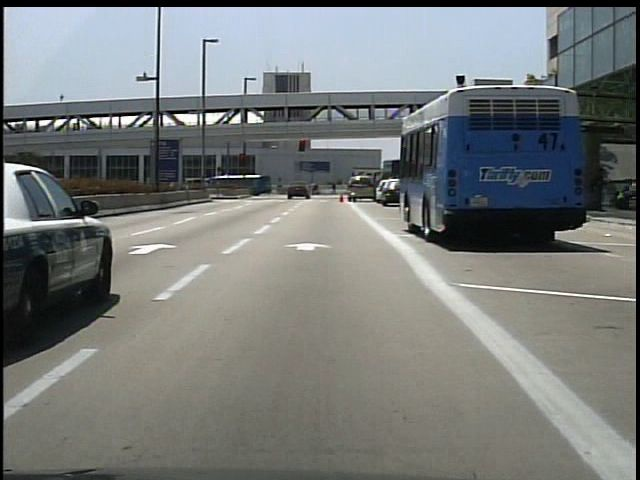person: (612, 180, 636, 211), (312, 182, 322, 197), (330, 181, 339, 197)
